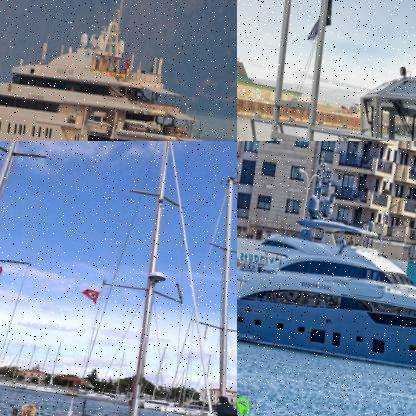Patrol Boat: (237, 0, 415, 140)
Sails Boat: (0, 141, 236, 415), (141, 160, 236, 415), (0, 141, 66, 415)
Yacht: (237, 141, 415, 384), (0, 0, 236, 140)
